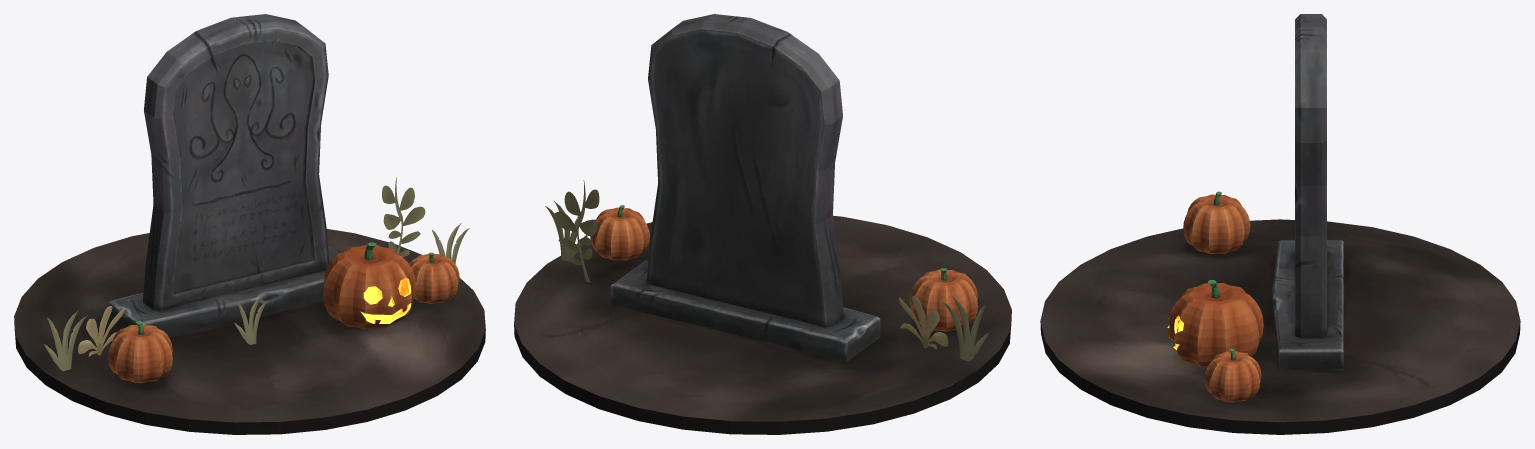
File: grave.glb
The picture shows the model from 3 angles, left to right: view 1: azimuth 30°, elevation 25°; view 2: azimuth 150°, elevation 25°; view 3: azimuth 270°, elevation 25°; orthographic projection. The views are drawn at different scales.
Visible parts, largest first — view 1: model; view 2: model; view 3: model.
Part boxes in pixels (x1=…): model: x1=14, y1=14, x2=485, y2=434; model: x1=514, y1=14, x2=1011, y2=434; model: x1=1040, y1=14, x2=1520, y2=434.
Bounding box in the file's own units: 2.24 × 1.5 × 2.12.
Materials: 8 (7 with a texture image).
